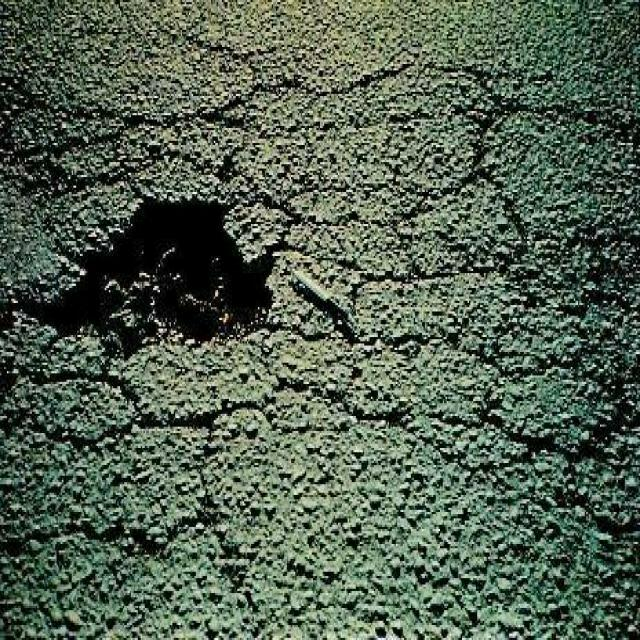Pothole: (17, 183, 277, 367)
